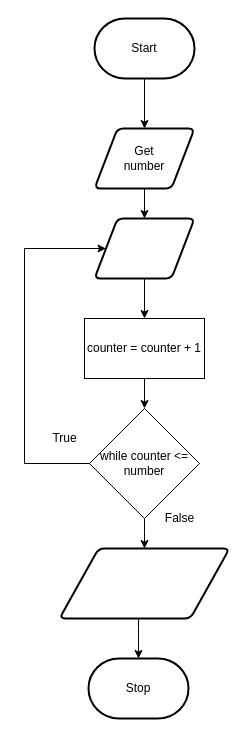
The diagram is 248 pixels wide and 736 high, and some of its shapes have lost their labels. The centre of each missing label's shape, as x and y in pixels:
print("{0}! = {1}"). format(number,sum: the point at 144,583
sum = sum*counter: the point at 144,248
